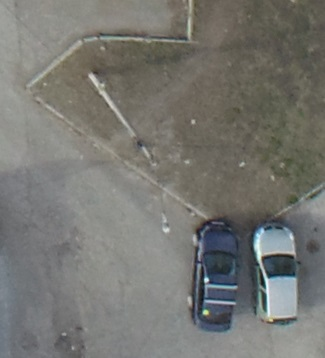opora: (88, 58, 162, 167)
